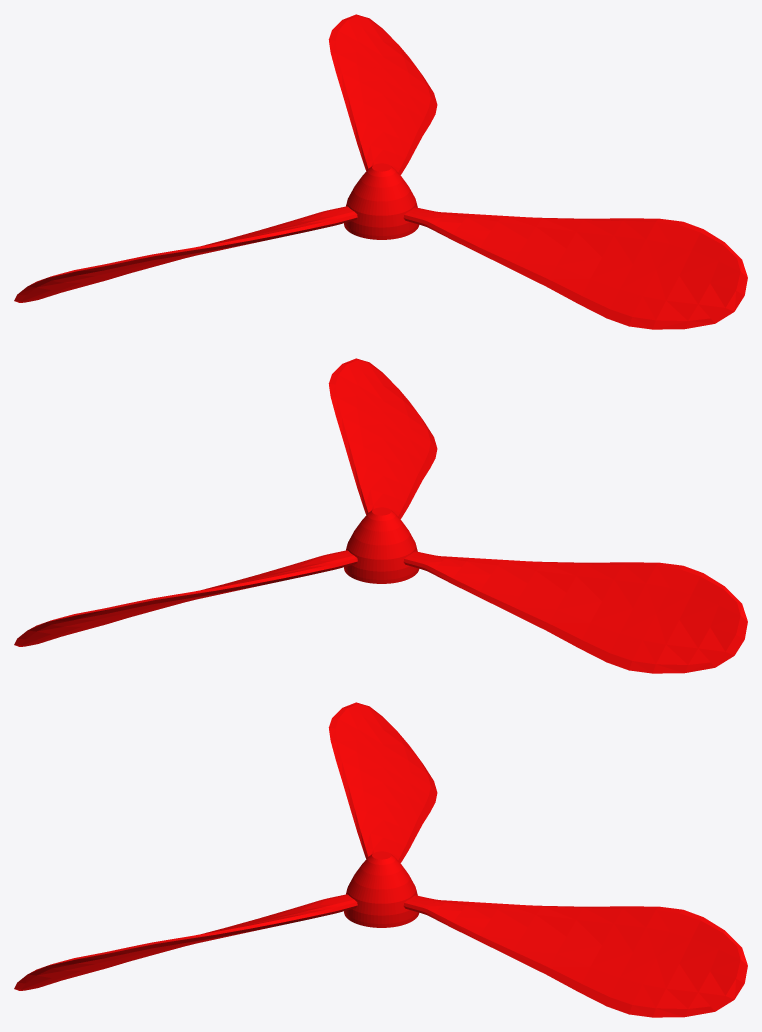
The model's file is PropellerRed.FBX.
3 views of the same model, one above another, from view 1: azimuth 30°, elevation 25°; view 2: azimuth 150°, elevation 25°; view 3: azimuth 270°, elevation 25° (orthographic).
Parts seen in each view (by area): view 1: PropellerRed; view 2: PropellerRed; view 3: PropellerRed.
Boxes of the visible parts, x1,y1,x2,y2 form: PropellerRed: [14, 14, 747, 329]; PropellerRed: [14, 358, 747, 673]; PropellerRed: [14, 702, 747, 1017].
Bounding box in the file's own units: 24.1 × 27.41 × 2.95.
